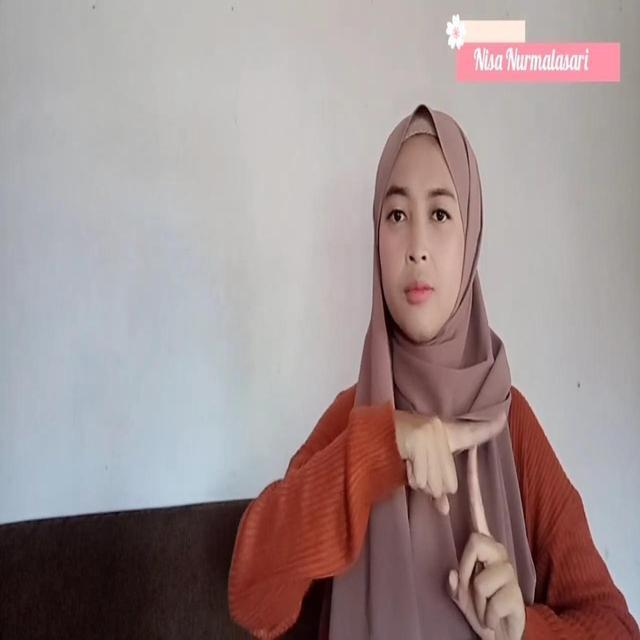T: (406, 402, 520, 605)
